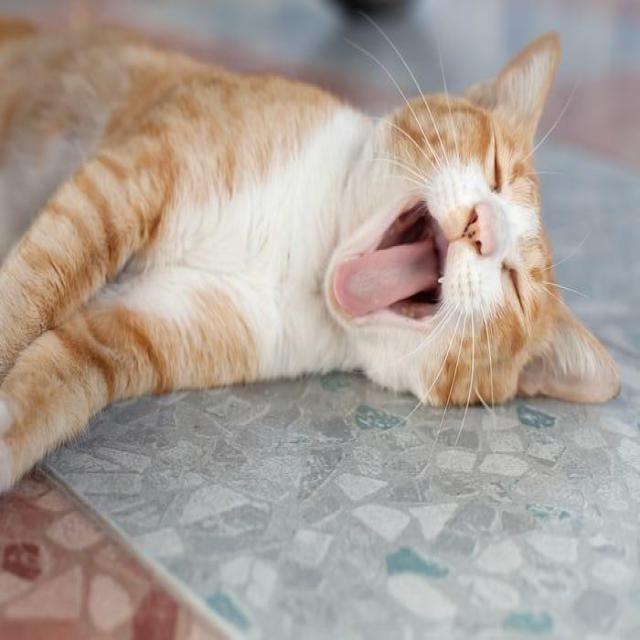Cat: (317, 25, 628, 416)
